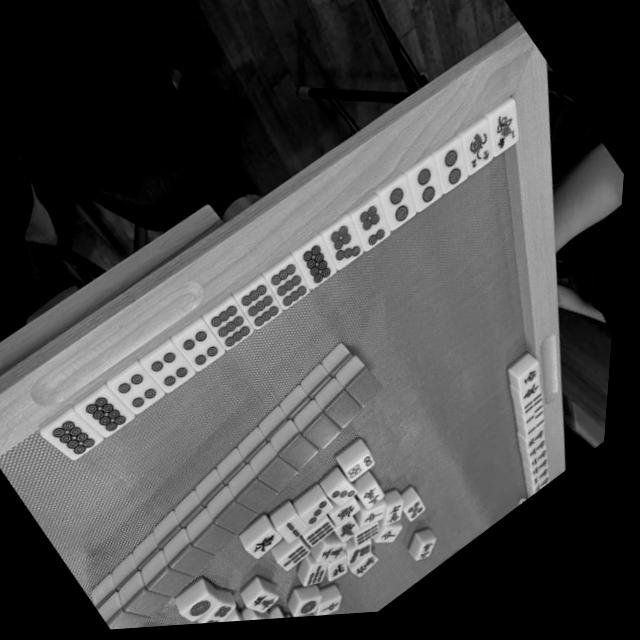bf2: (455, 132, 501, 179)
bs1: (480, 112, 529, 162)
sd2: (379, 184, 424, 232), (404, 168, 449, 215), (431, 151, 475, 196)
sd4: (114, 365, 168, 420), (146, 343, 199, 398), (177, 322, 229, 376)
sd6: (350, 202, 398, 254)
sd7: (320, 223, 372, 276)
sd8: (50, 409, 106, 466), (83, 386, 138, 443), (293, 241, 343, 293)
sd9: (209, 302, 261, 356), (238, 282, 290, 335), (265, 261, 317, 314)
